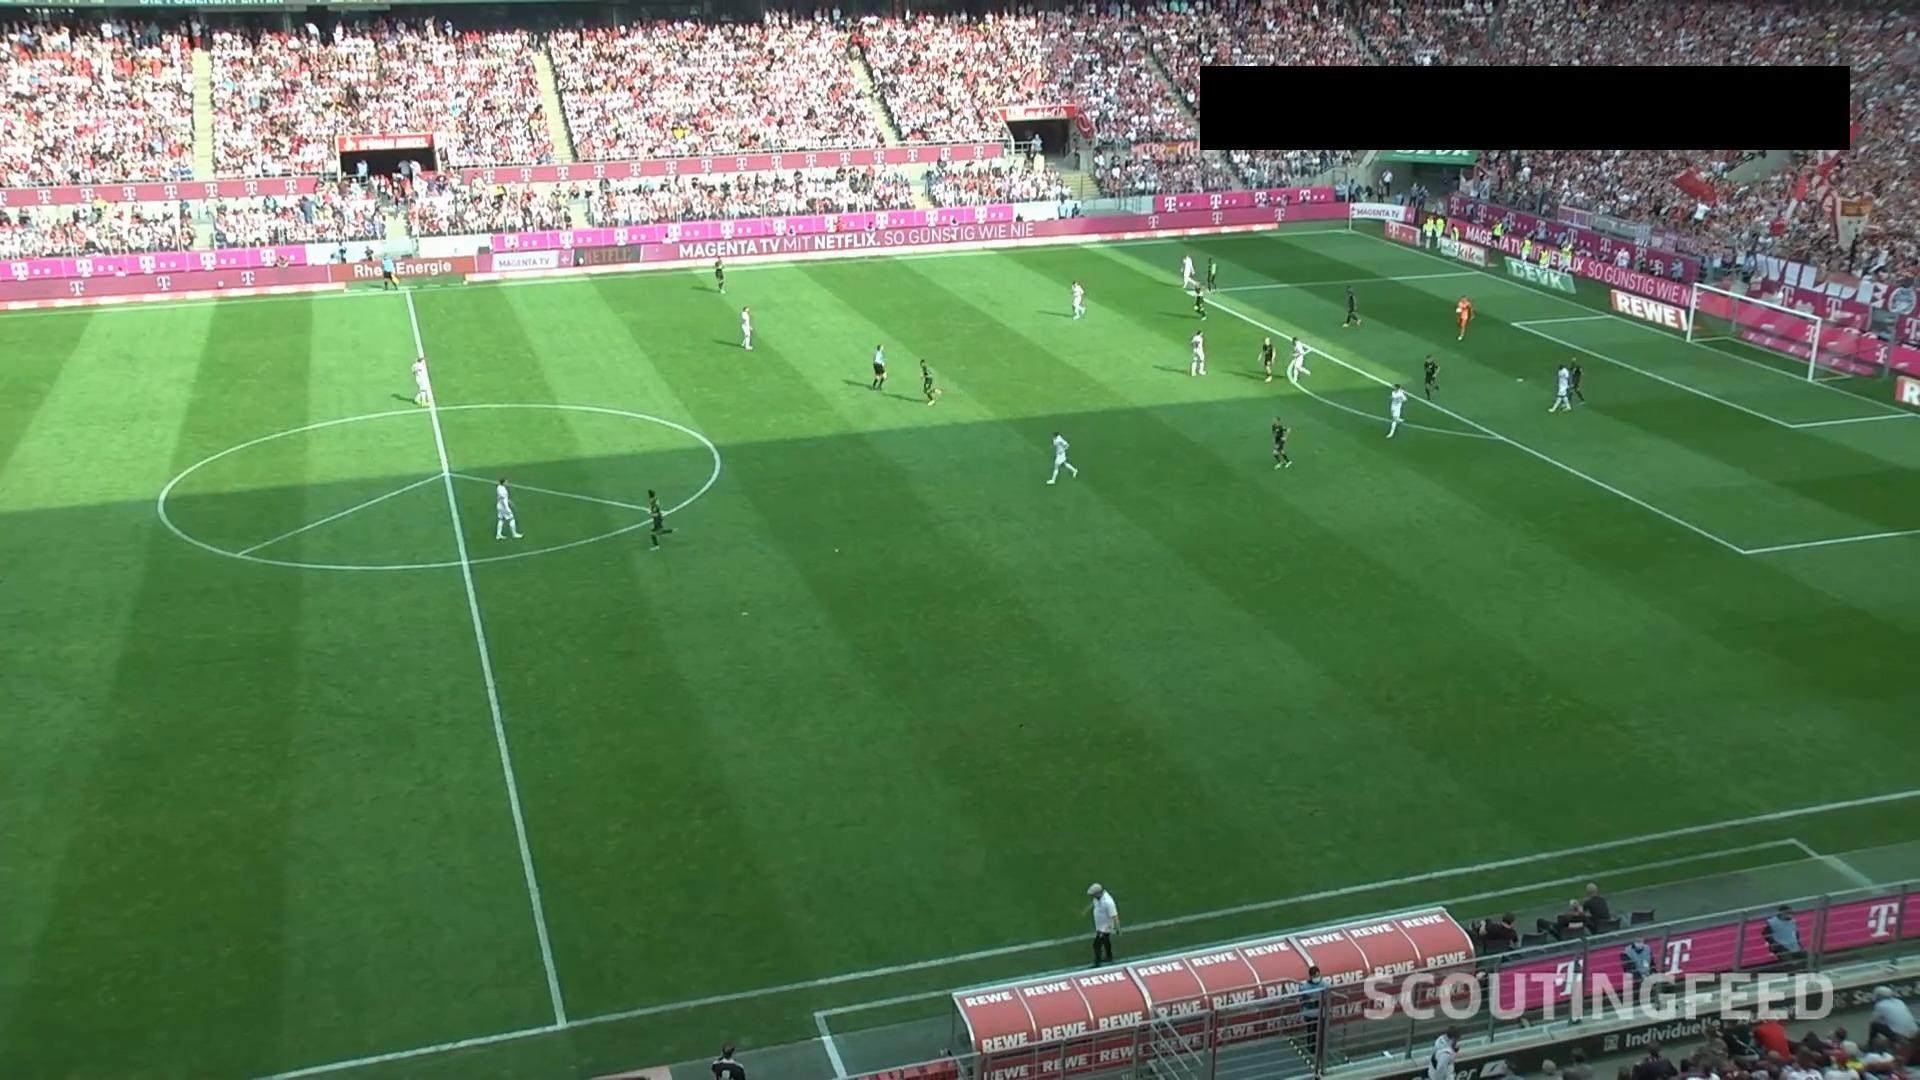ball: (1455, 306, 1462, 314)
